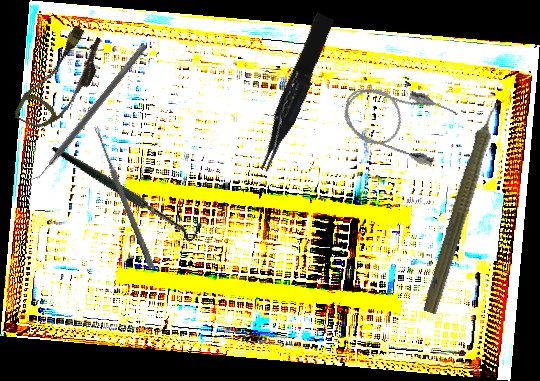Cannula: (335, 71, 460, 170), (12, 19, 111, 141)
Handpiece: (418, 92, 512, 318)
Hook Surgical: (50, 101, 208, 279)
Spatula Surgical: (27, 38, 148, 188)
Surgical Spoon: (92, 125, 156, 270)
Tissue Forceps: (247, 12, 341, 174)
